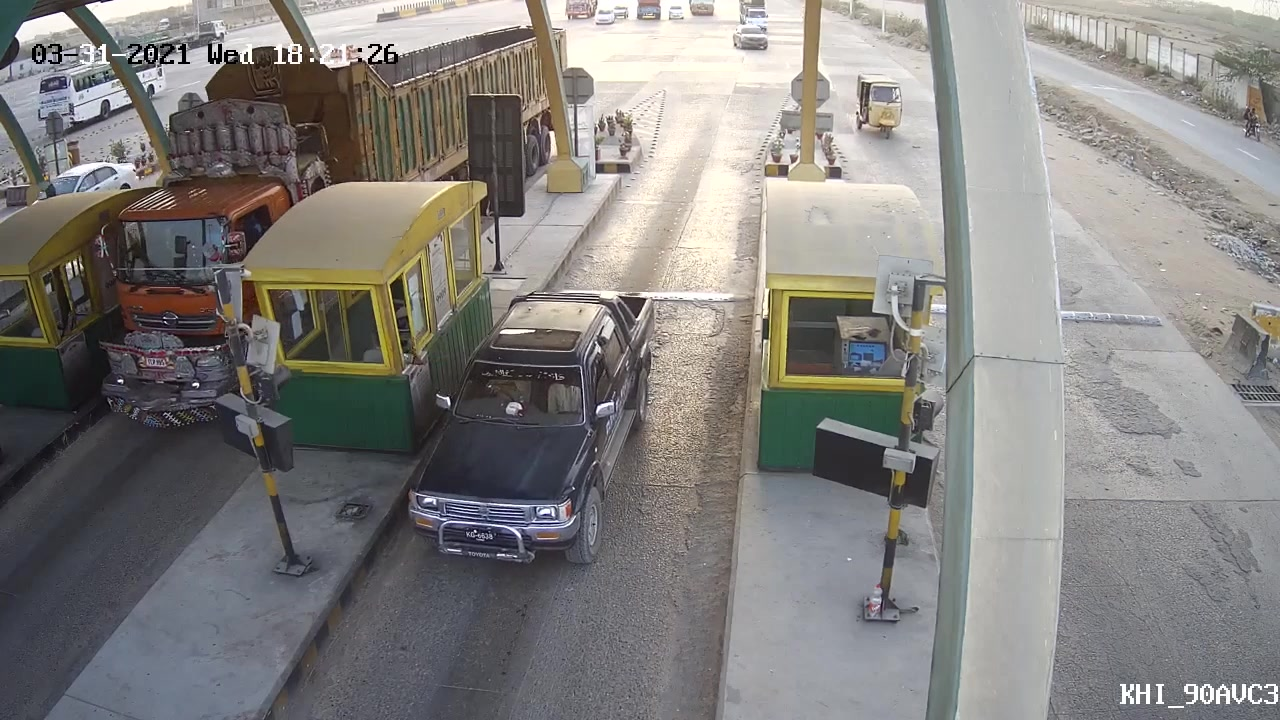F1: (402, 280, 657, 570)
